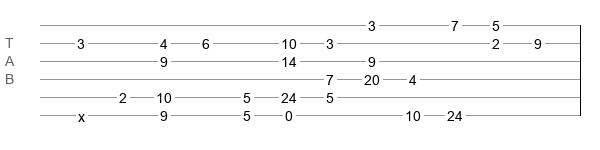0: (285, 108, 293, 118)
10: (156, 90, 172, 100), (281, 36, 297, 46), (405, 108, 421, 118)
14: (281, 54, 297, 64)
2: (119, 90, 127, 100), (492, 36, 500, 46)
20: (364, 72, 380, 82)
24: (281, 90, 297, 100), (447, 108, 463, 118)
3: (77, 36, 85, 46), (326, 36, 334, 46), (368, 18, 376, 28)
4: (160, 36, 168, 46), (409, 72, 417, 82)
5: (243, 90, 251, 100), (243, 108, 251, 118), (326, 90, 334, 100), (492, 18, 500, 28)
6: (202, 36, 210, 46)
7: (326, 72, 334, 82), (451, 18, 459, 28)
9: (160, 108, 168, 118), (160, 54, 168, 64), (368, 54, 376, 64), (534, 36, 542, 46)
x: (78, 109, 85, 117)
